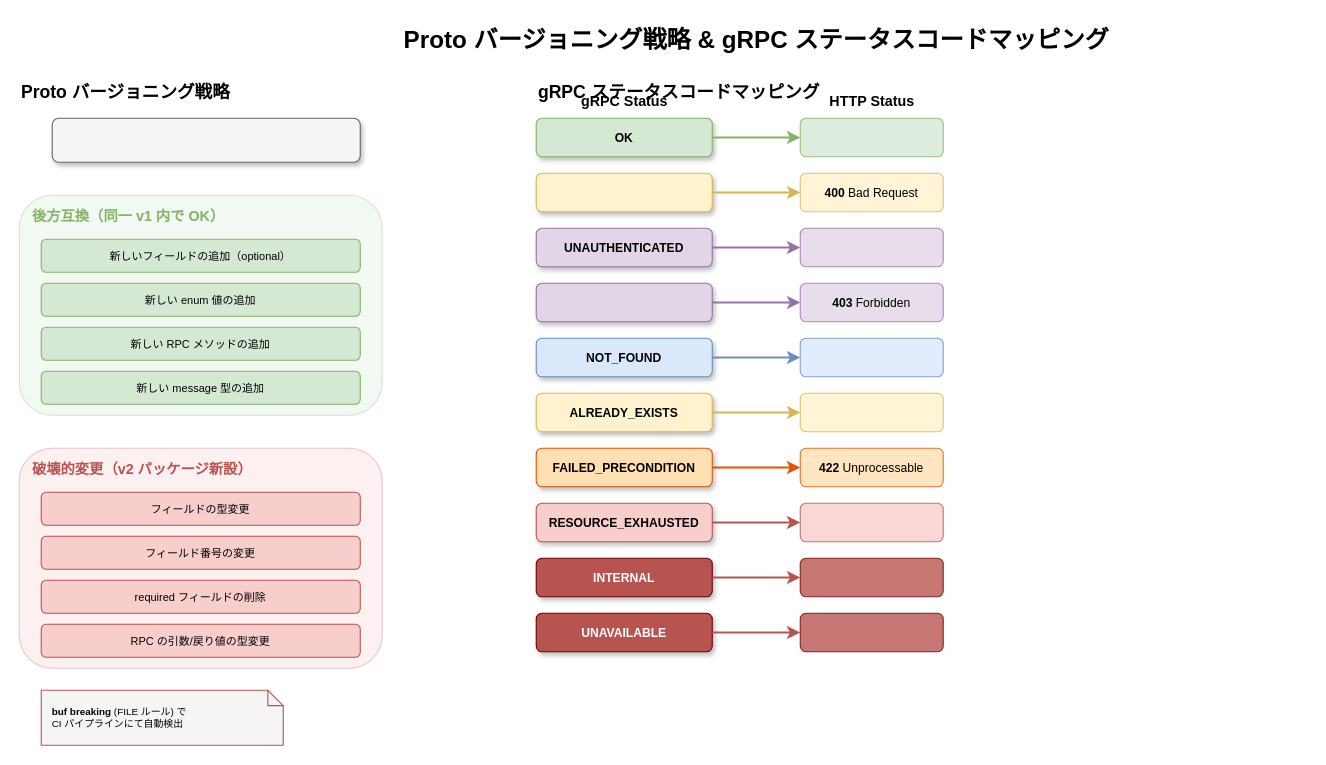
The diagram is 1326 pixels wide and 765 high, and some of its shapes have lost their labels. Here are the shapes that lost their labels. From the top down, the centre of each, then its label:
point 207,141: k1s0.{tier}.{domain}.v{major}
point 871,137: 200 OK
point 625,193: INVALID_ARGUMENT
point 871,247: 401 Unauthorized
point 625,303: PERMISSION_DENIED
point 871,357: 404 Not Found
point 871,412: 409 Conflict
point 871,522: 429 Too Many
point 871,577: 500 Internal
point 871,632: 503 Unavailable
